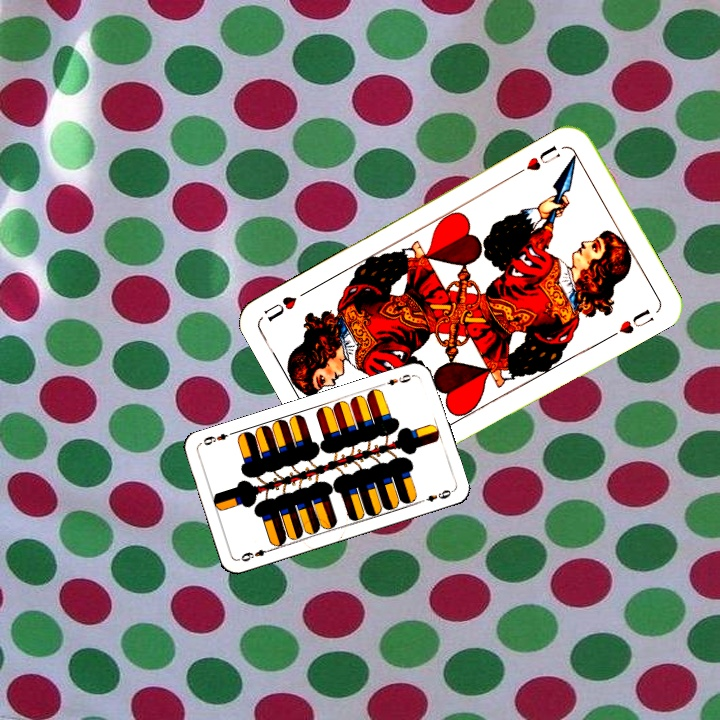E9: (235, 545, 275, 564), (377, 370, 417, 389)
HU: (522, 141, 563, 174)
